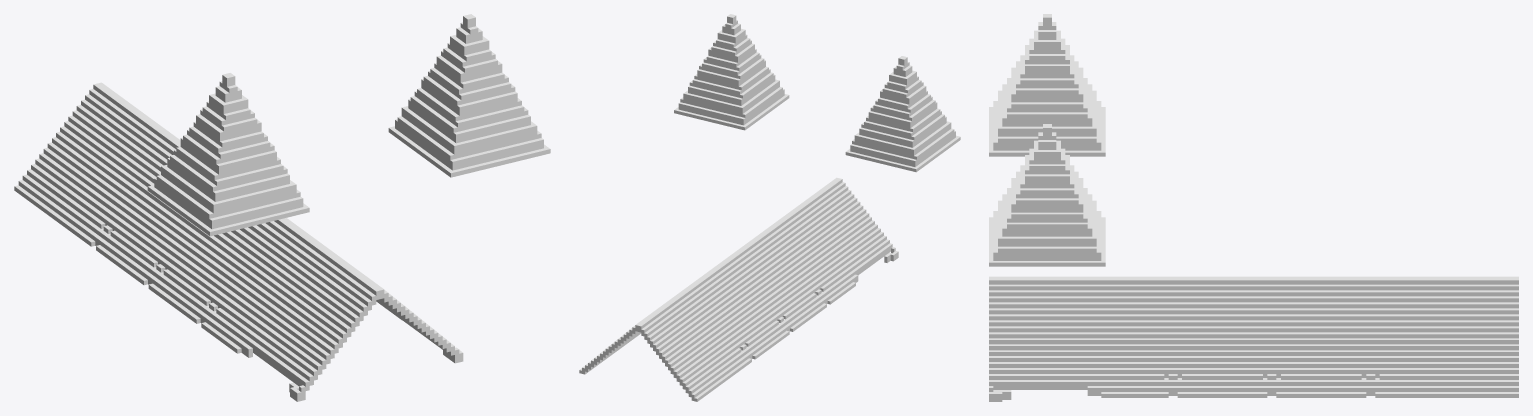
File: church-32-ch_roofwhite.obj
3 views of the same model, side by side, from view 1: azimuth 30°, elevation 25°; view 2: azimuth 150°, elevation 25°; view 3: azimuth 270°, elevation 25° (orthographic). The views are drawn at different scales.
Visible parts, largest first — view 1: ch_roofwhite; view 2: ch_roofwhite; view 3: ch_roofwhite.
Boxes of the visible parts, left/top/right/bottom form: ch_roofwhite: left=14, top=14, right=550, bottom=401; ch_roofwhite: left=579, top=14, right=960, bottom=401; ch_roofwhite: left=989, top=14, right=1518, bottom=401.
Bounding box in the file's own units: 8.2 × 7.2 × 11.8.
Materials: 1 (1 with a texture image).
